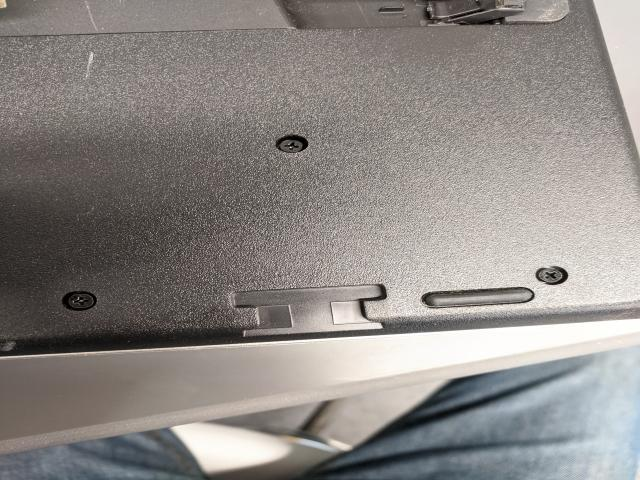CRS: (536, 266, 567, 285), (66, 292, 97, 310), (276, 137, 306, 152)
